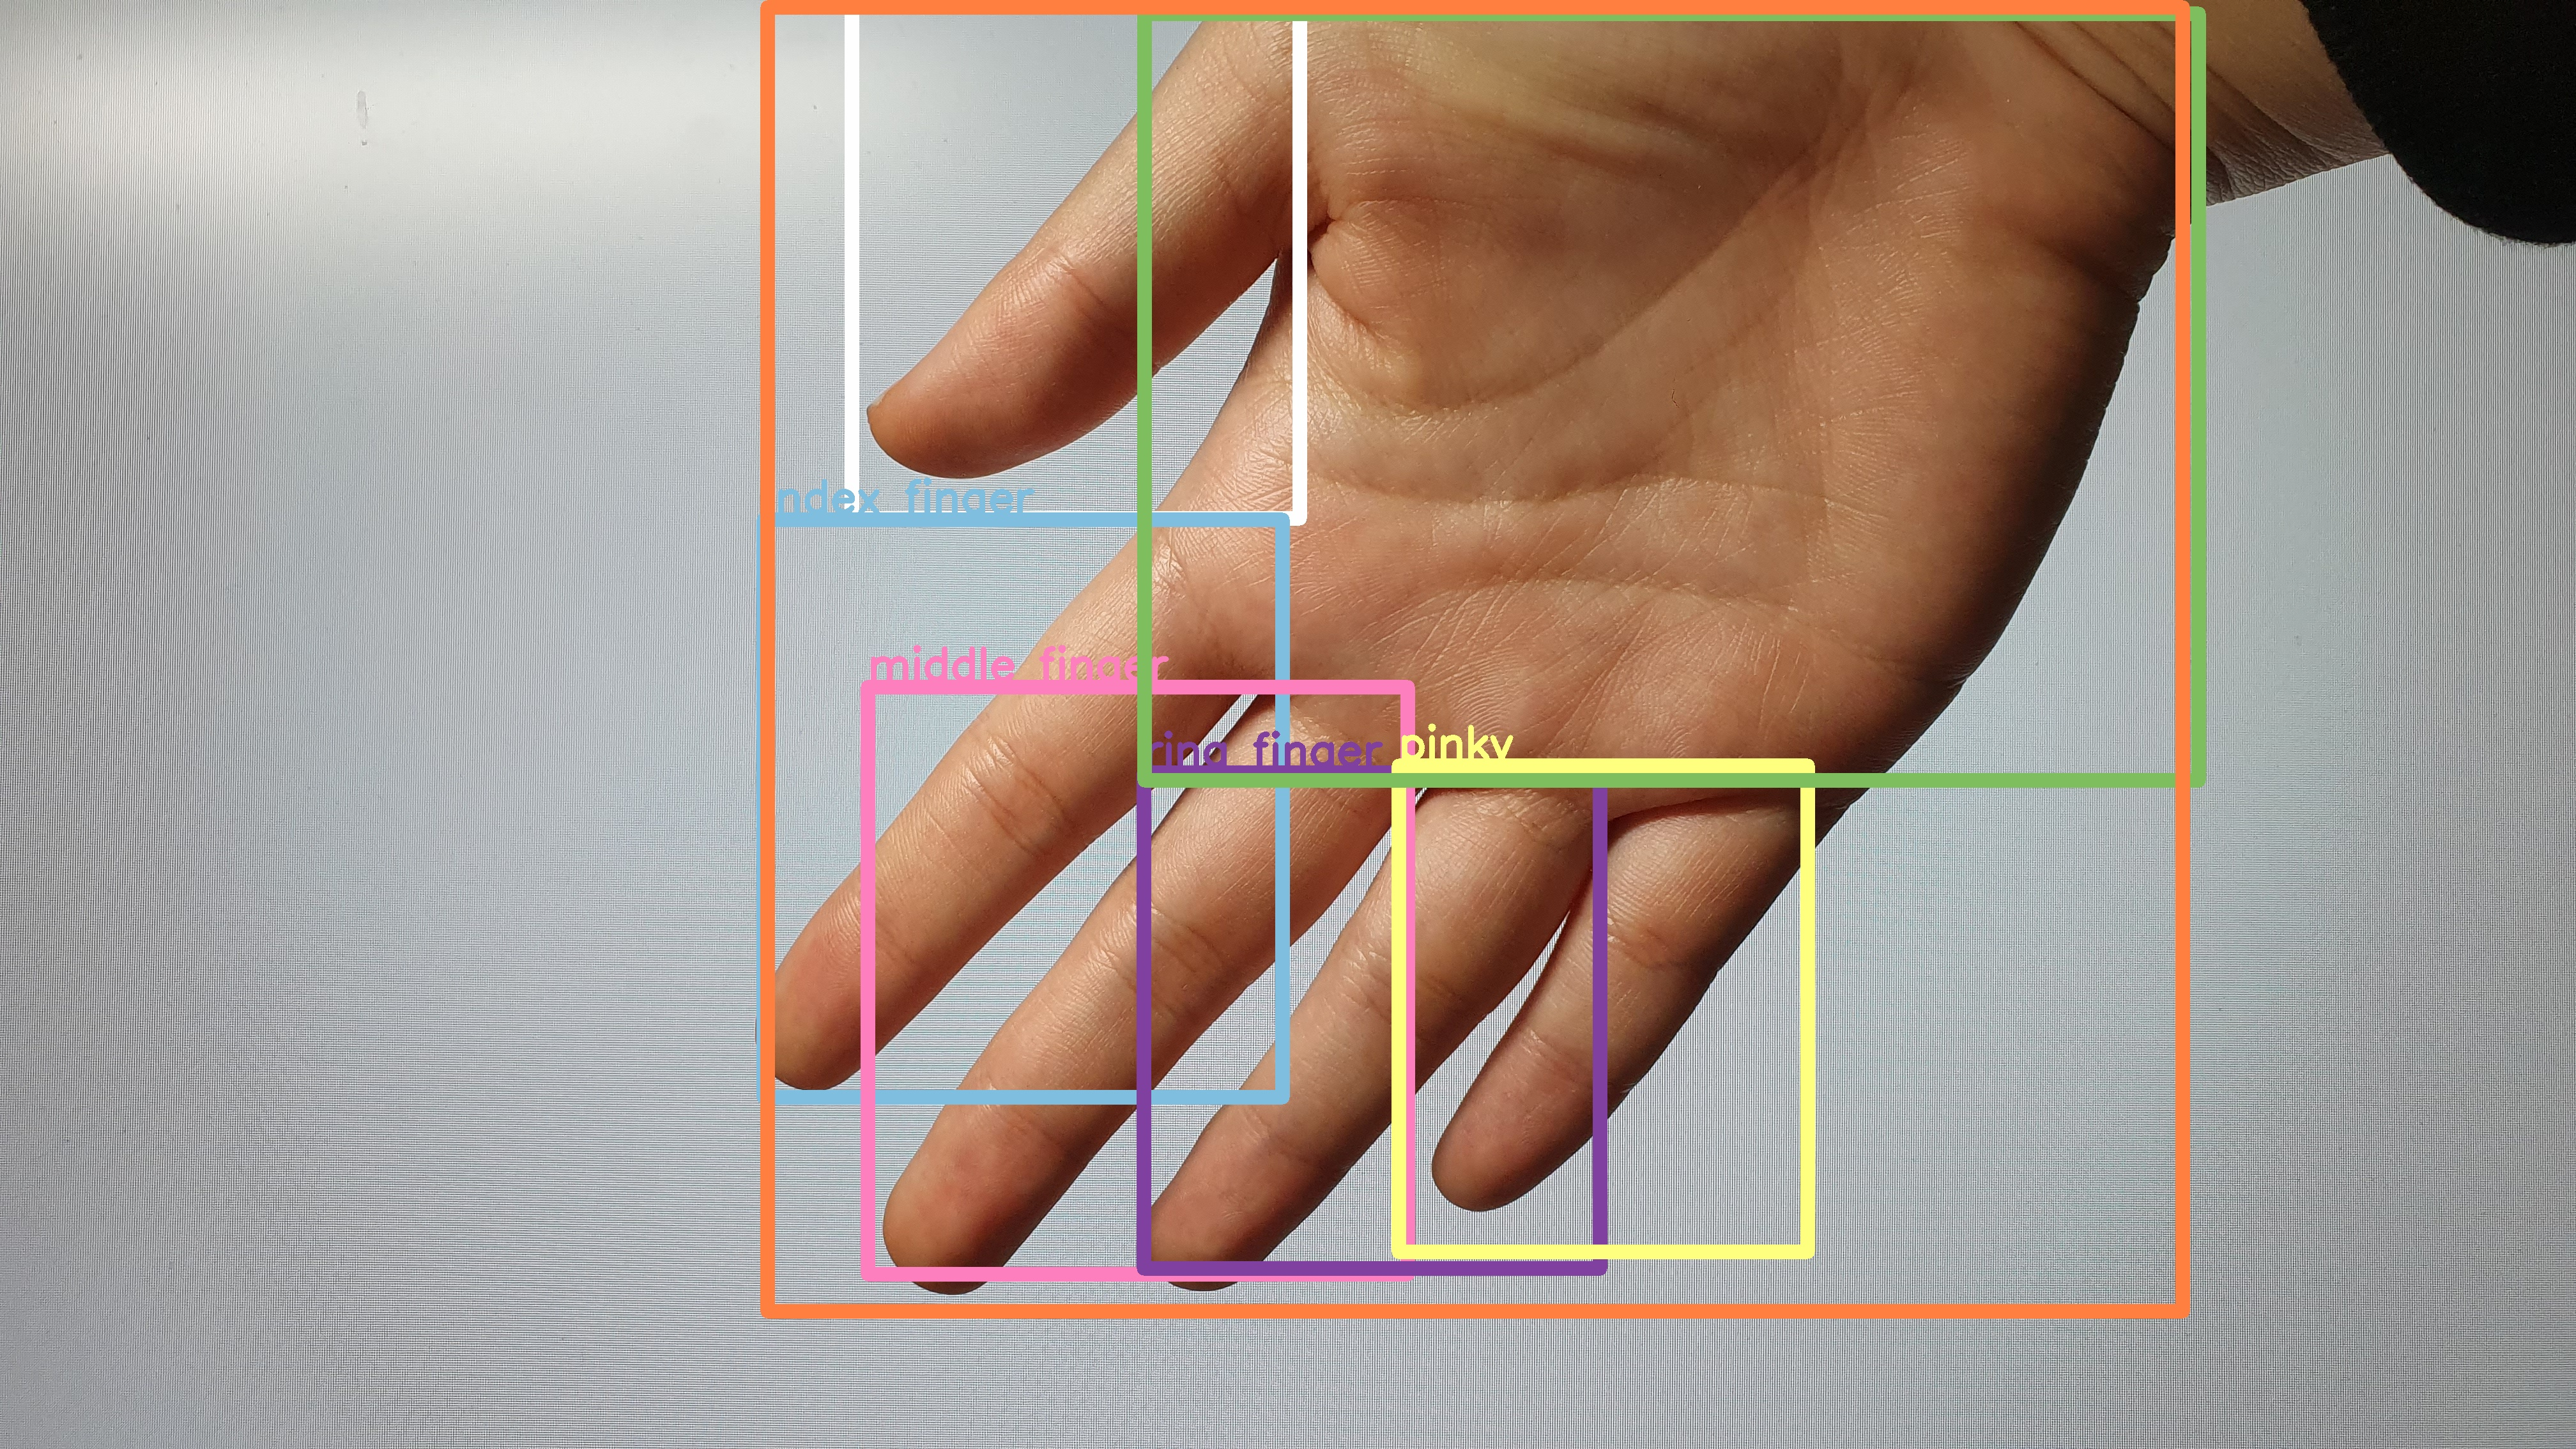hand: (745, 0, 2185, 1313)
index finger: (748, 527, 1274, 1104)
middle finger: (863, 690, 1412, 1299)
palm: (1171, 2, 2180, 766)
pinky: (1426, 800, 1828, 1231)
ring finger: (1132, 759, 1599, 1307)
thumb: (855, 11, 1299, 504)
